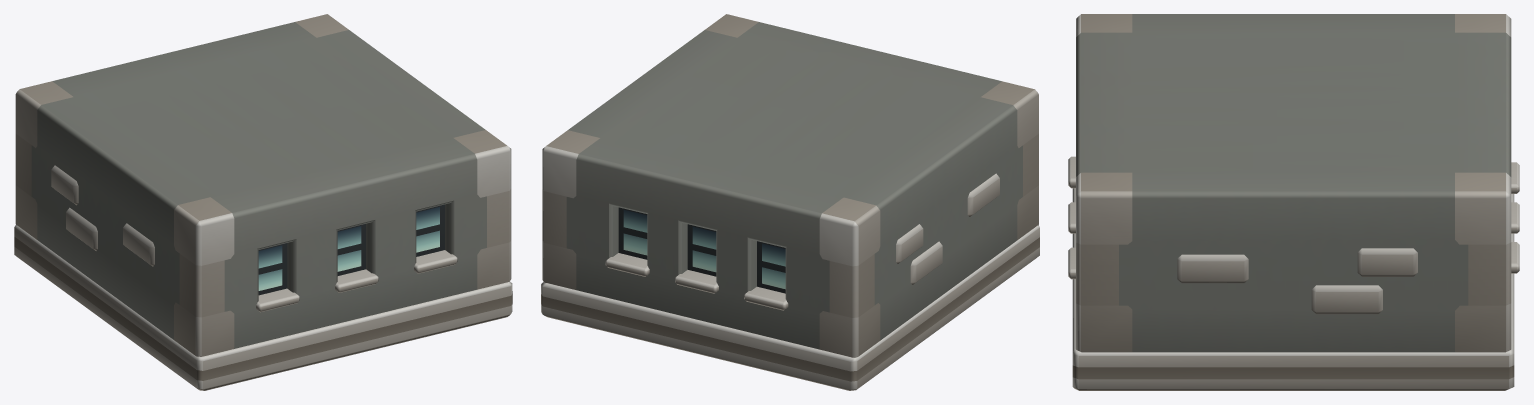
Rendered from appartment_type1_x4_element_grey.fbx.
3 views of the same model, side by side, from view 1: azimuth 30°, elevation 25°; view 2: azimuth 150°, elevation 25°; view 3: azimuth 270°, elevation 25° (orthographic). The views are drawn at different scales.
Parts seen in each view (by area): view 1: appartment_type1_x4_element_grey; view 2: appartment_type1_x4_element_grey; view 3: appartment_type1_x4_element_grey.
Part boxes in pixels (bbox=[...]): appartment_type1_x4_element_grey: bbox=[14, 14, 512, 390]; appartment_type1_x4_element_grey: bbox=[541, 14, 1039, 390]; appartment_type1_x4_element_grey: bbox=[1068, 14, 1519, 390].
Size of the model in its own units: 819 by 409 by 839.
